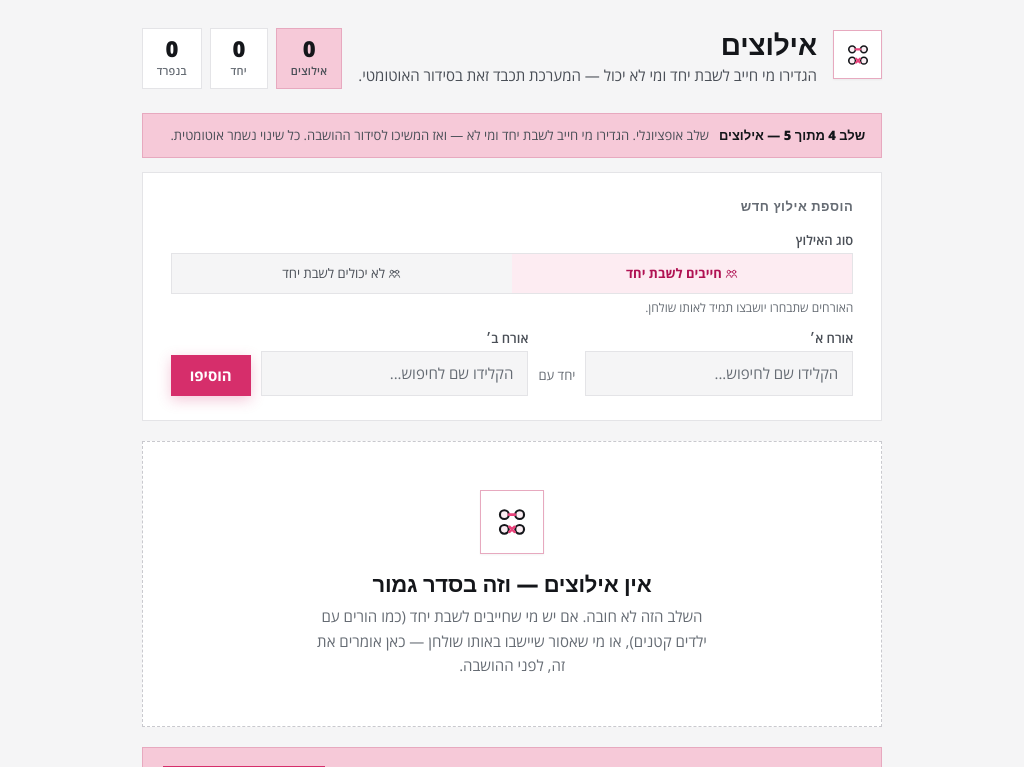
Test case: ConstraintsScreen guest picker is a combobox (AX3) › an option is chosen by a click alone (no mousedown)
In the dropdown named "אורח א׳": coordinates (717, 373) [592,352,842,395], type "כהן 3"
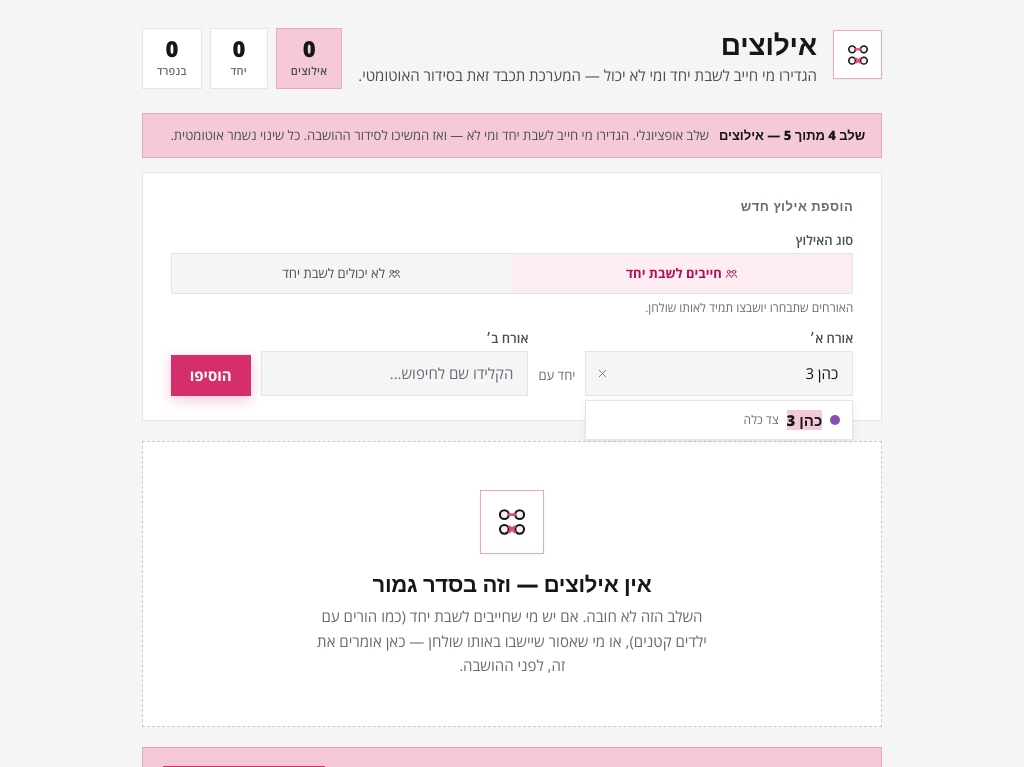
Click the option "כהן 3 צד כלה": coordinates (792, 420) [744,410,840,430]
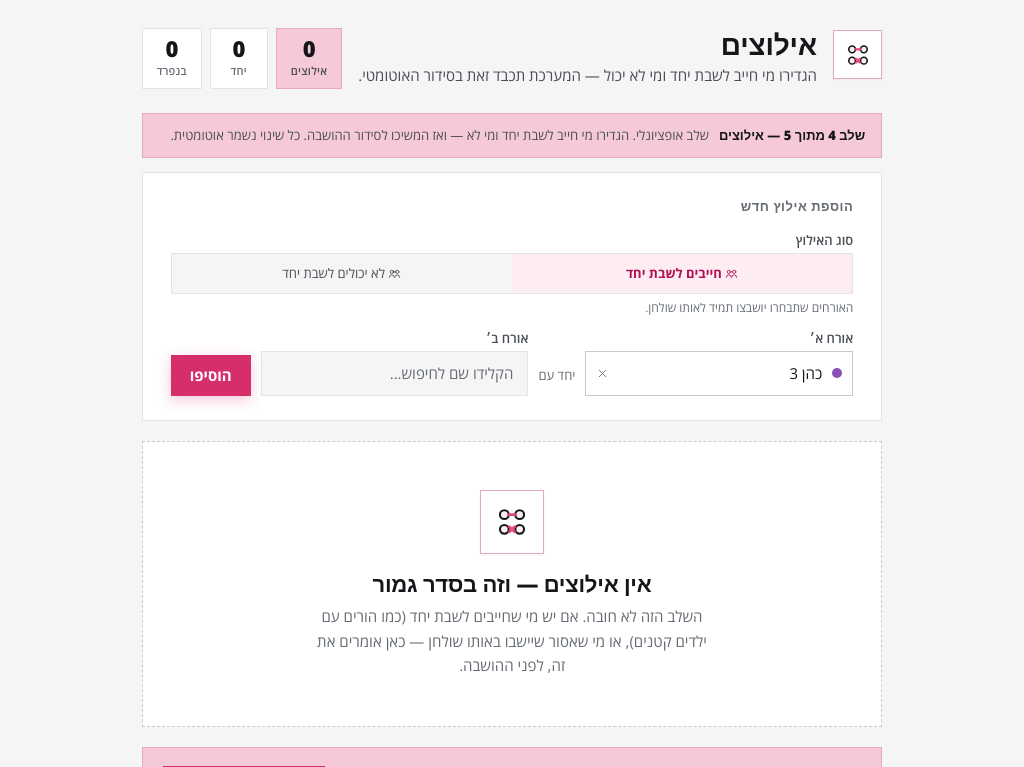
Result: no options are shown
